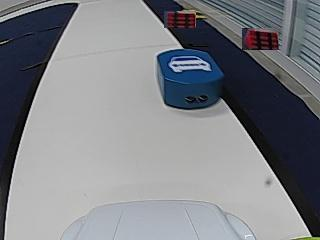safety: (168, 55, 212, 72)
